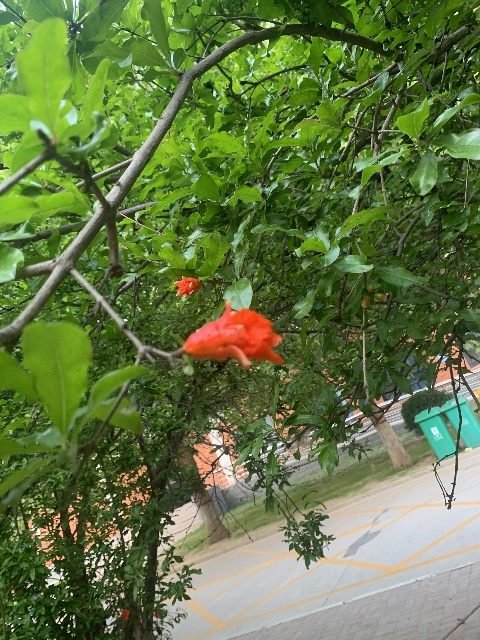bud: (373, 292, 387, 302), (361, 295, 370, 308), (366, 284, 374, 293)
flower: (183, 299, 285, 369), (174, 276, 201, 297), (121, 609, 129, 620), (154, 610, 159, 617)
